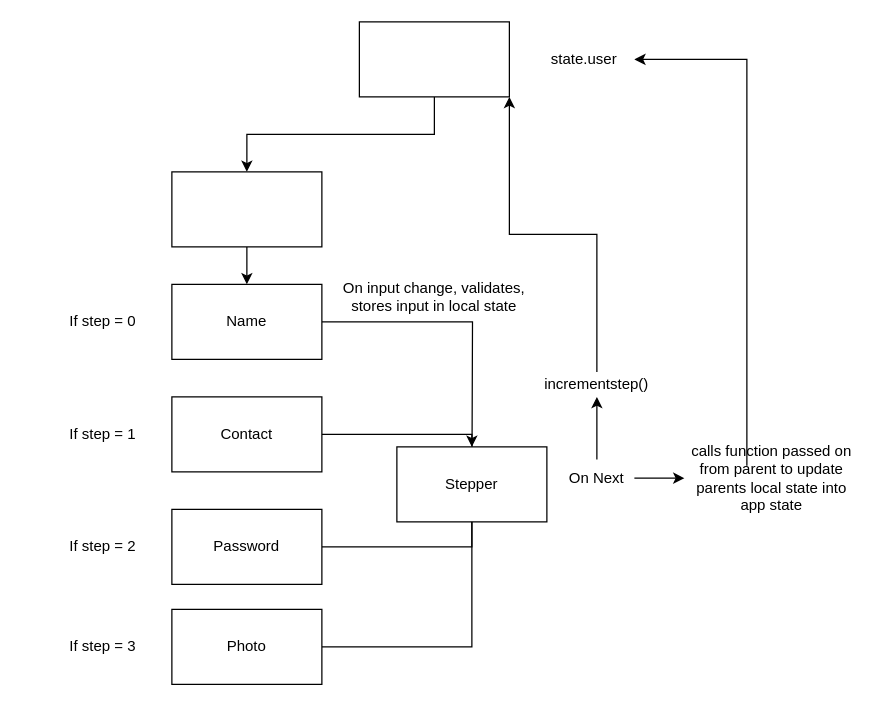
The diagram is 880 pixels wide and 706 high, and some of its shapes have lost their labels. The centre of each missing label's shape, as x and y in pixels:
App.JS: pixel 433 59
Sign Up: pixel 246 209
